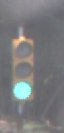Green: (5, 34, 38, 109)
